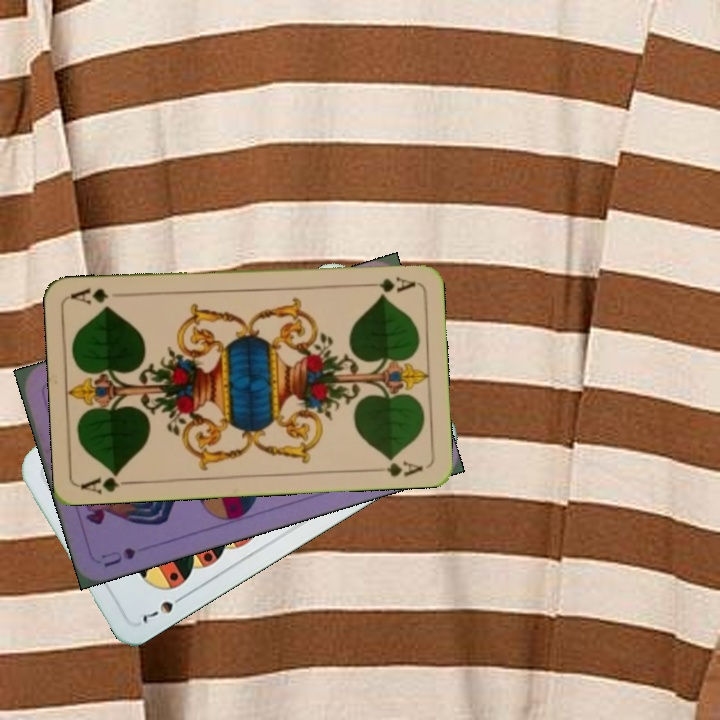GA: (78, 467, 137, 496), (358, 272, 418, 295)
S7: (138, 590, 189, 627)
SU: (97, 543, 138, 570)
